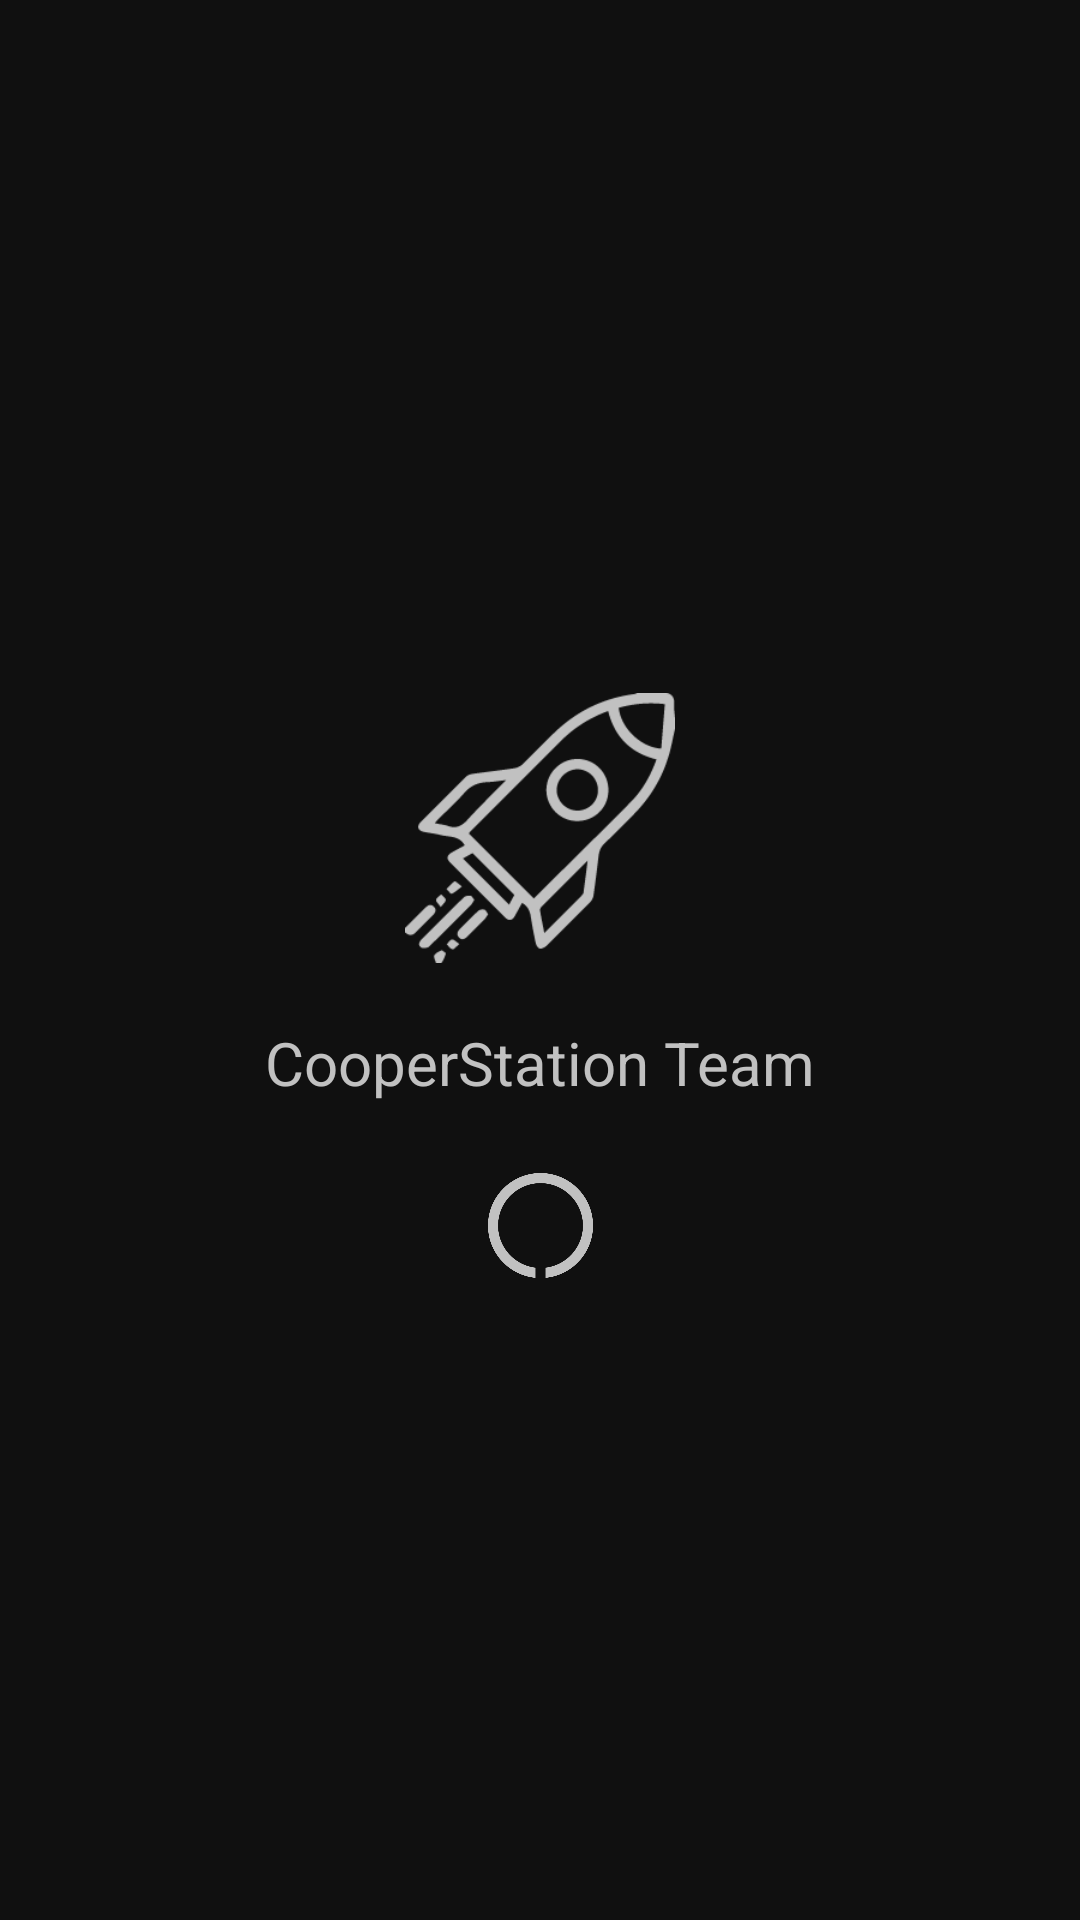

Screen size 1080px x 1920px. Icon name, then its center in pixels as (x=x, y=y):
rocket: (x=540, y=828)
